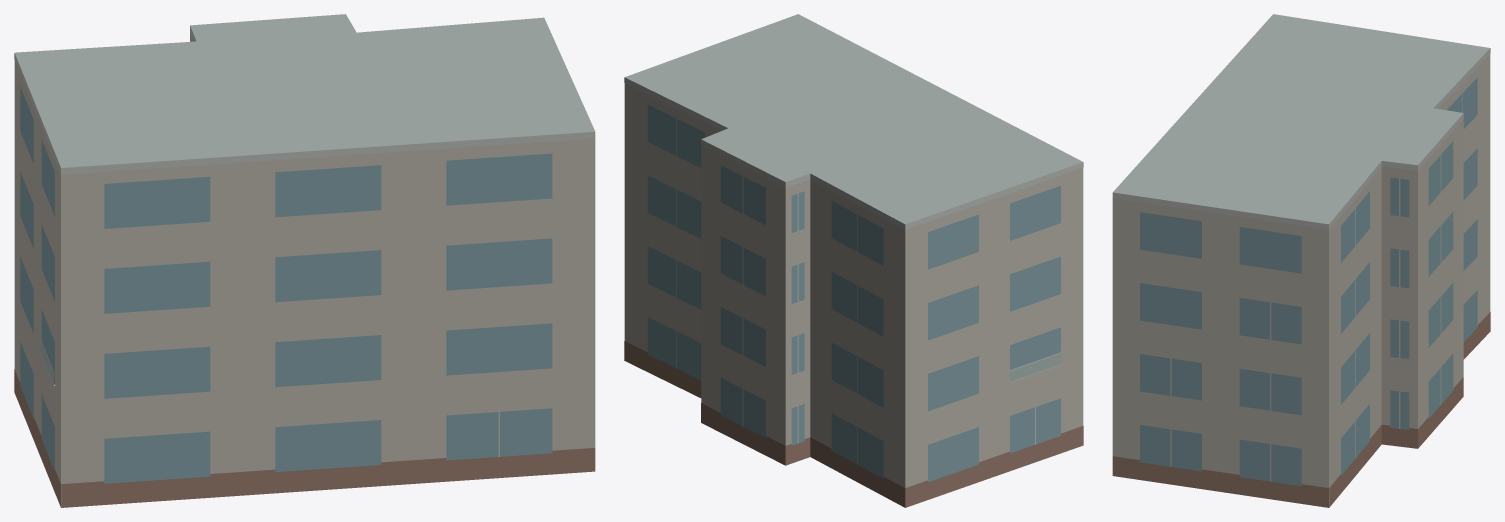
Rendered from survey-upis-32710384.glb.
3 views of the same model, side by side, from view 1: azimuth 30°, elevation 25°; view 2: azimuth 150°, elevation 25°; view 3: azimuth 270°, elevation 25° (orthographic). The views are drawn at different scales.
Visible parts, largest first — view 1: survey-upis-32710384.tmp; view 2: survey-upis-32710384.tmp; view 3: survey-upis-32710384.tmp.
Part boxes in pixels (left/top/right/bottom): survey-upis-32710384.tmp: left=14, top=14, right=595, bottom=507; survey-upis-32710384.tmp: left=624, top=14, right=1083, bottom=507; survey-upis-32710384.tmp: left=1112, top=14, right=1490, bottom=507.
Bounding box in the file's own units: 19.42 × 12.2 × 14.74.
